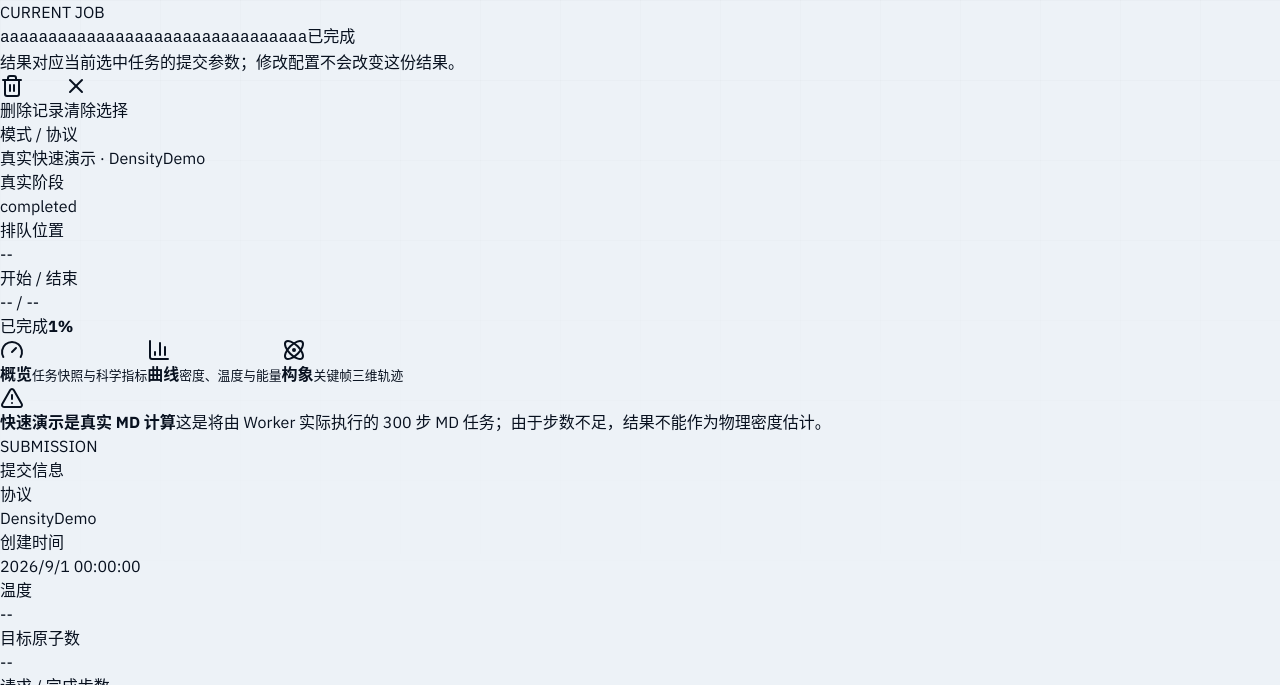
Test: MonomerMdResultsPanel › lazily loads a slimmed trajectory timeline only after opening conformation
Step 1. Click the tab "构象" → (342, 362), box [282, 338, 403, 386]
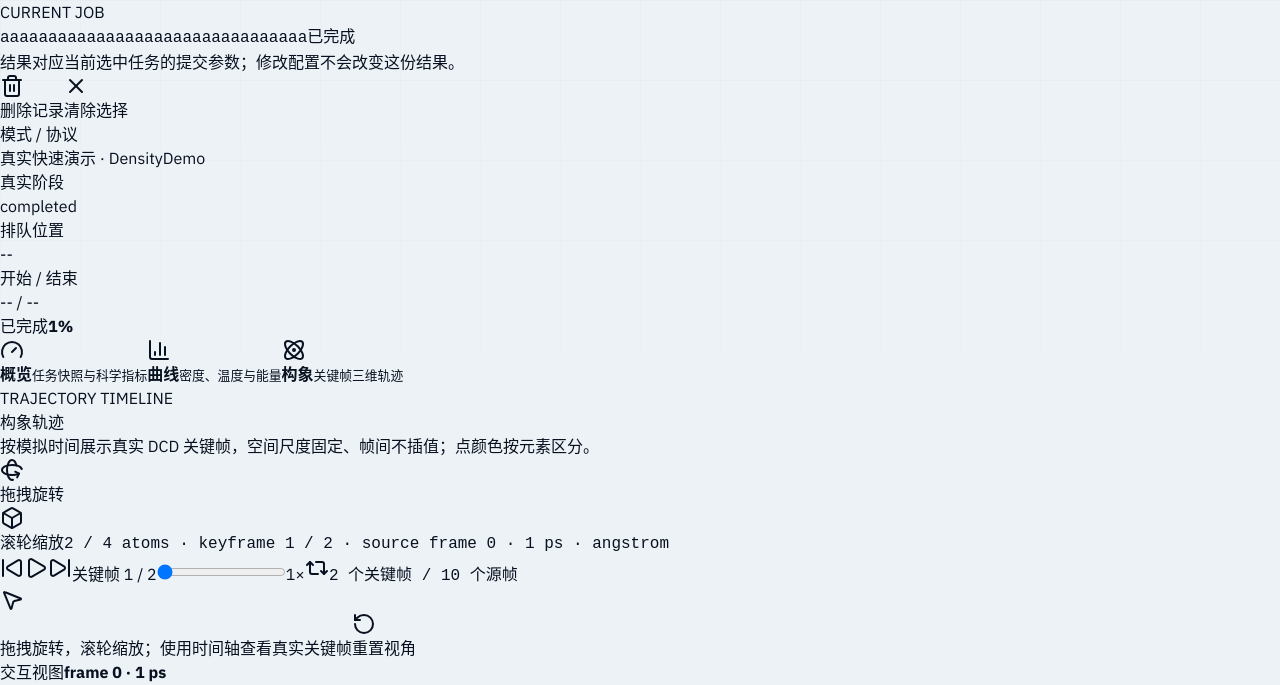
Now the heading "构象轨迹" is shown, box [0, 412, 64, 432]
Step 2. Click the tab "概览" → (74, 362), box [0, 338, 147, 386]
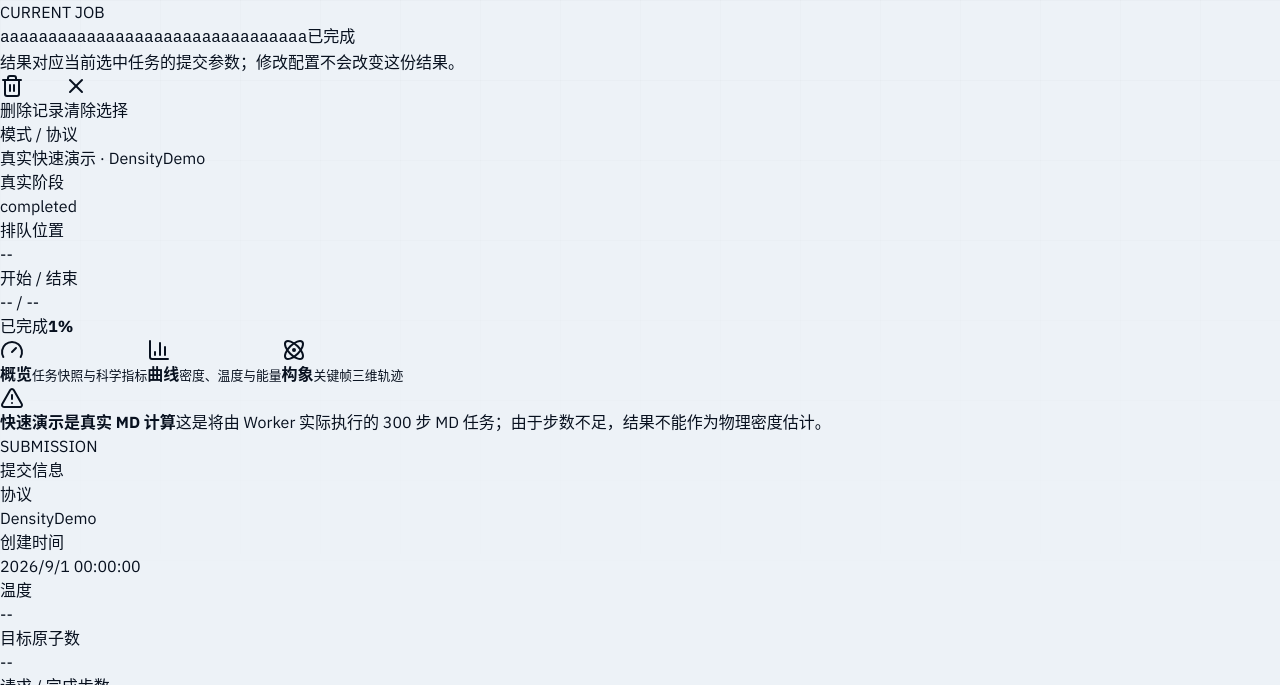
Step 3. Click the tab "构象" → (342, 362), box [282, 338, 403, 386]
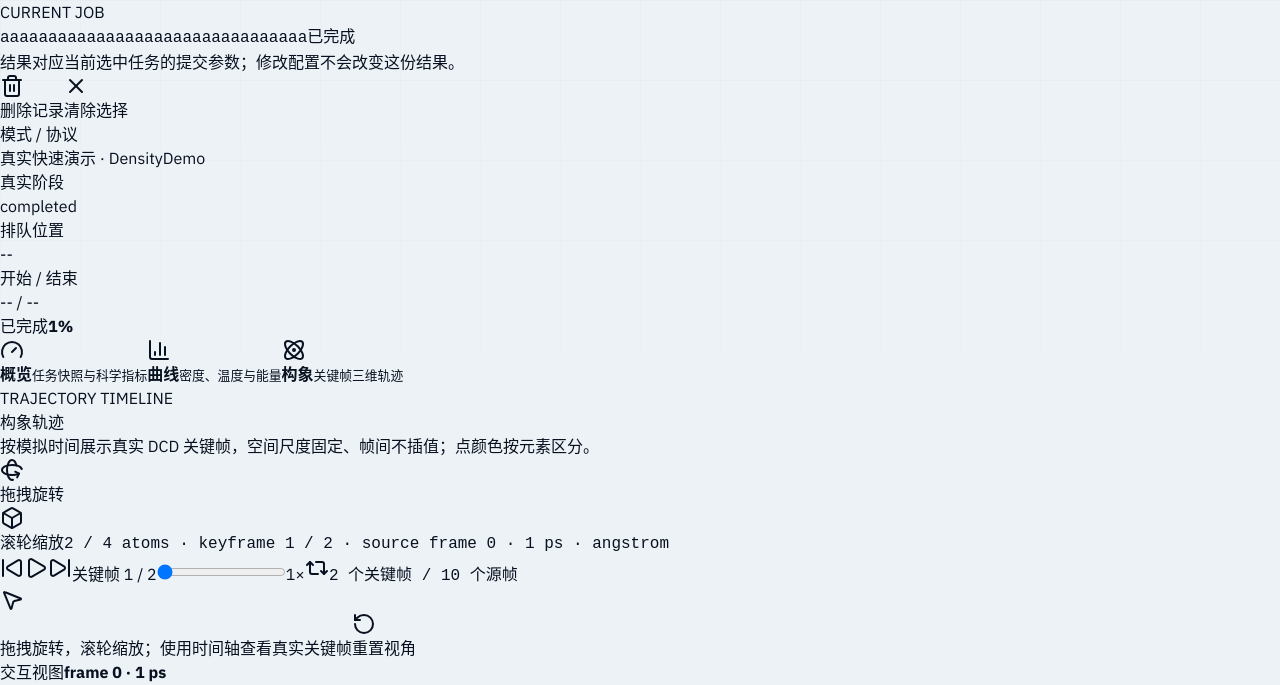
Now the heading "构象轨迹" is shown, box [0, 412, 64, 432]
